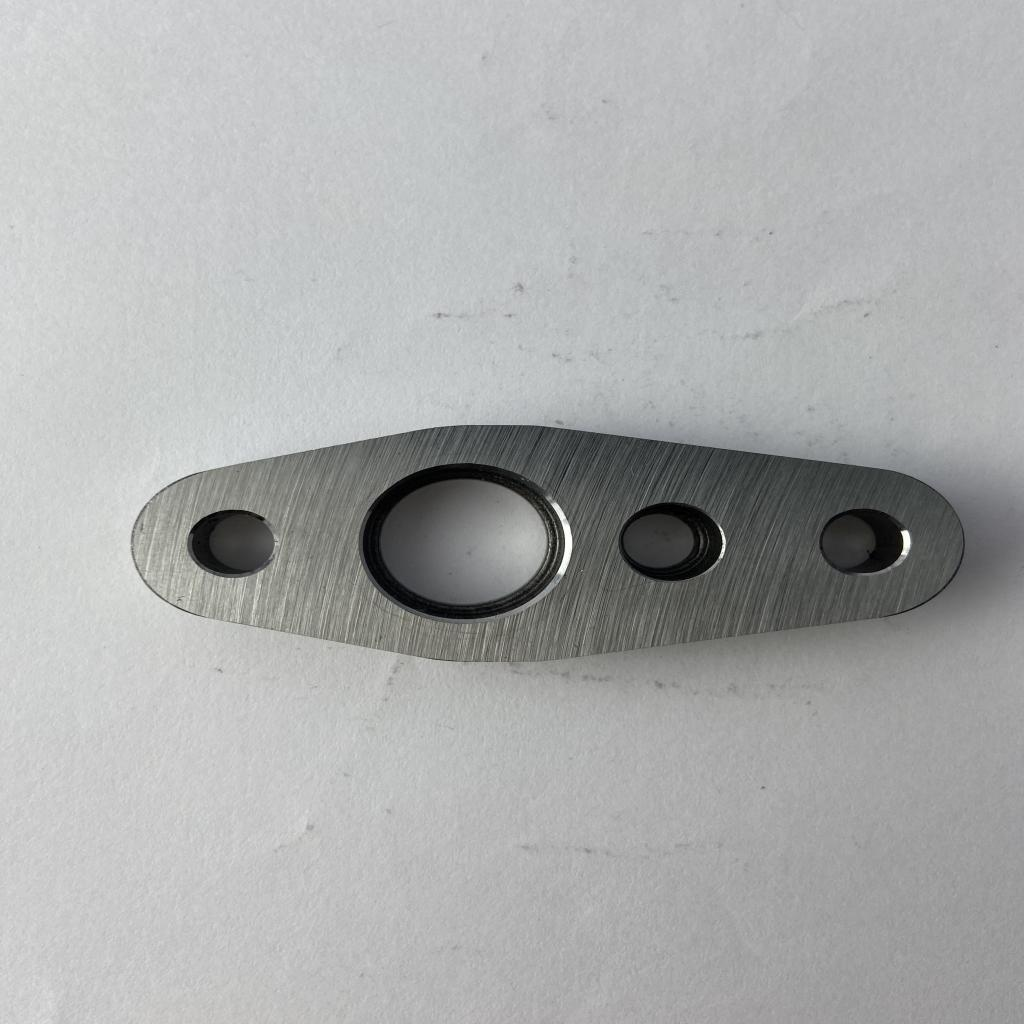chap: (171, 594, 193, 609)
lines: (422, 622, 482, 636), (371, 598, 391, 615)
